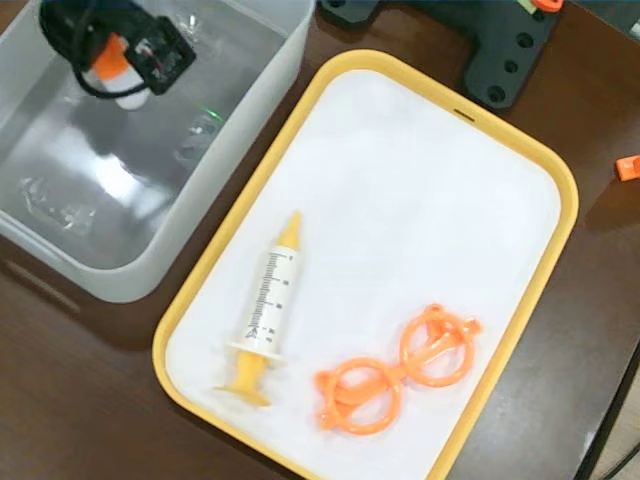pill: (96, 42, 144, 108)
syringe: (199, 206, 303, 407)
